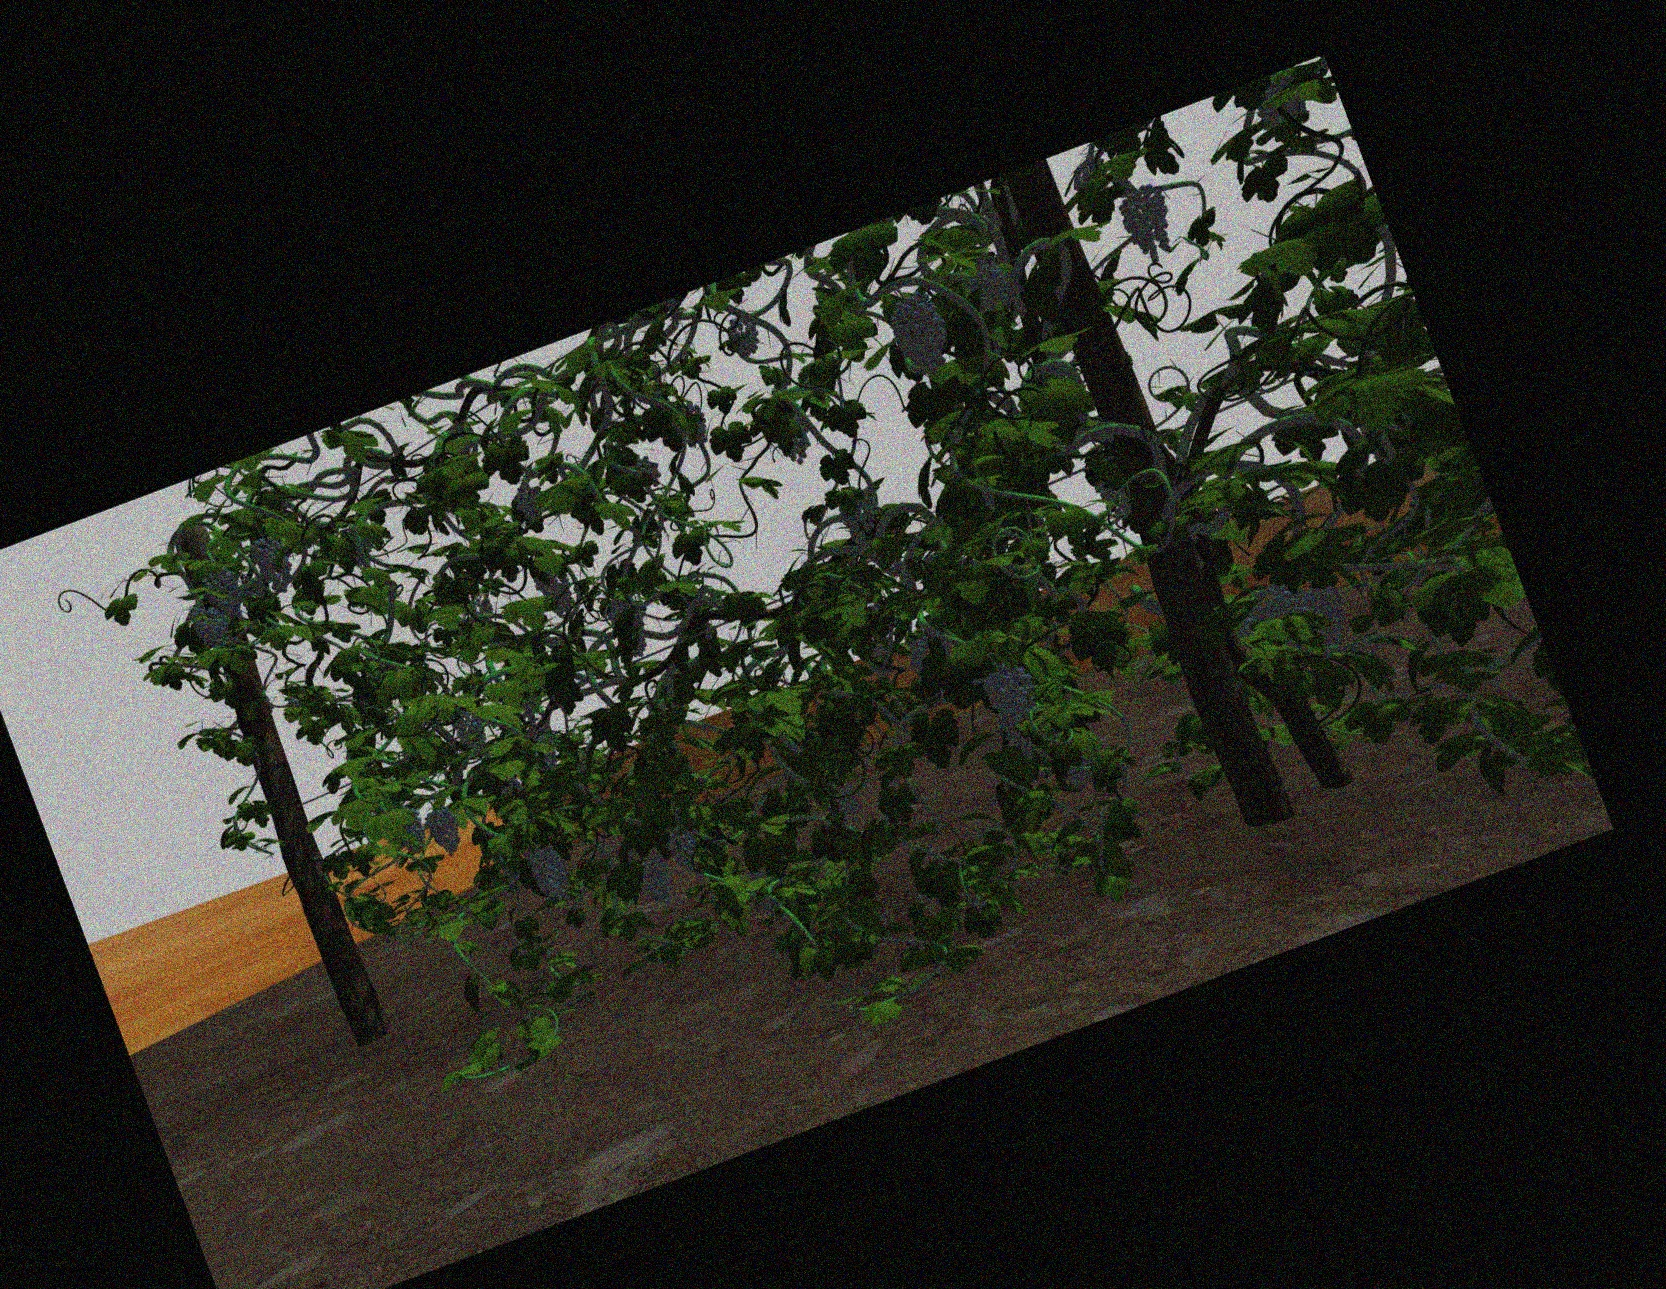grape: (993, 661, 1043, 753), (894, 294, 947, 375), (1122, 187, 1171, 258), (1308, 588, 1348, 653), (841, 488, 880, 542), (256, 536, 291, 594), (972, 261, 1014, 310), (207, 565, 243, 621), (533, 849, 571, 902), (1245, 587, 1297, 624), (540, 568, 573, 619), (640, 855, 672, 905), (193, 605, 229, 649), (431, 807, 461, 858), (728, 317, 757, 360), (668, 826, 696, 868), (454, 709, 483, 751), (832, 786, 861, 825), (399, 809, 425, 853), (517, 483, 542, 523), (627, 456, 659, 488)
